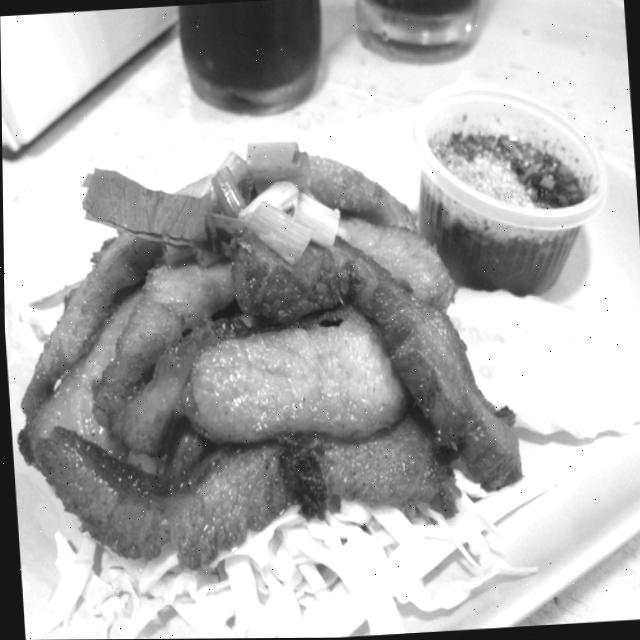猪肉菜式: (0, 38, 613, 638)
